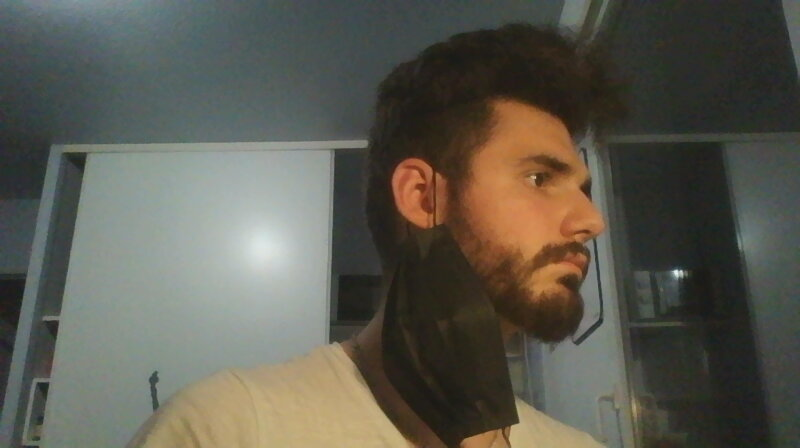with_incorrect_mask: (389, 106, 597, 386)
